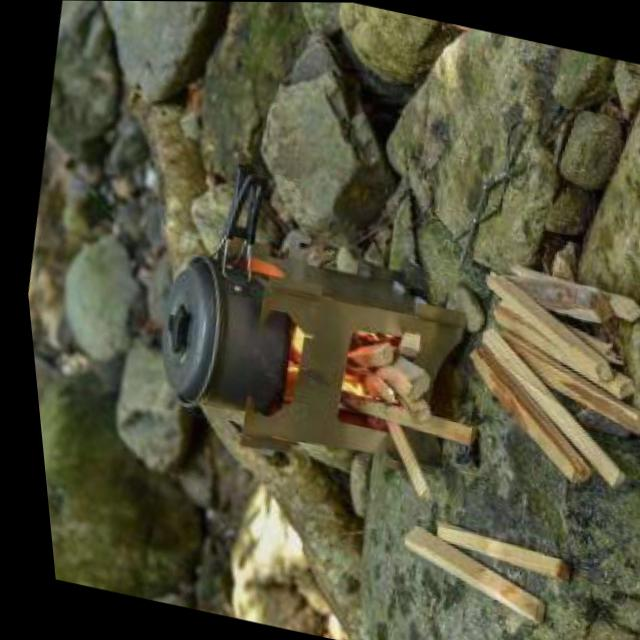Fire: (252, 297, 387, 403)
